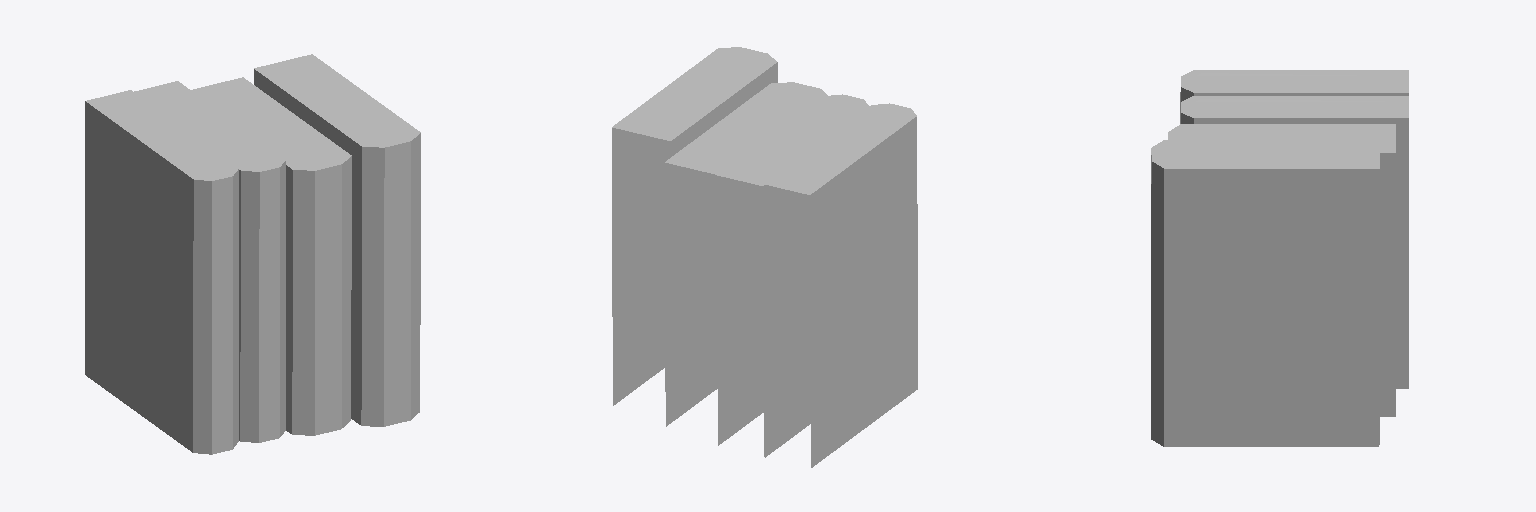
File: BookGroup_Small_2.obj
The picture shows the model from 3 angles: view 1: azimuth 30°, elevation 25°; view 2: azimuth 150°, elevation 25°; view 3: azimuth 270°, elevation 25°; orthographic projection.
Visible parts, largest first — view 1: BookGroup_Small_2_Cube.148; view 2: BookGroup_Small_2_Cube.148; view 3: BookGroup_Small_2_Cube.148.
Part boxes in pixels (x1,y1,x2,y2): BookGroup_Small_2_Cube.148: (85, 54, 420, 454); BookGroup_Small_2_Cube.148: (612, 47, 917, 467); BookGroup_Small_2_Cube.148: (1151, 70, 1408, 446).
Bounding box in the file's own units: 0.2276 × 0.2831 × 0.2372.